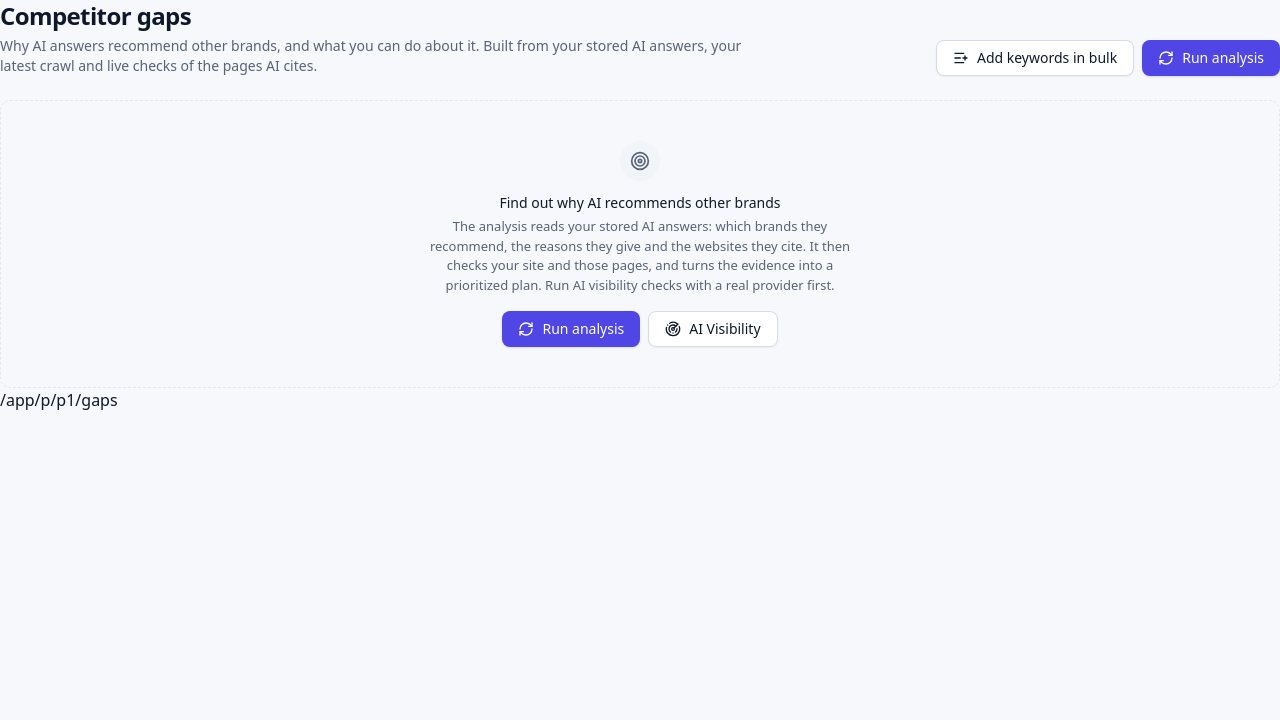
BulkPromptsDialog › generates keyword ideas with AI and fills keywords and questions
Step 1. Click the button "Add keywords in bulk" → (1035, 58), box [936, 40, 1134, 76]
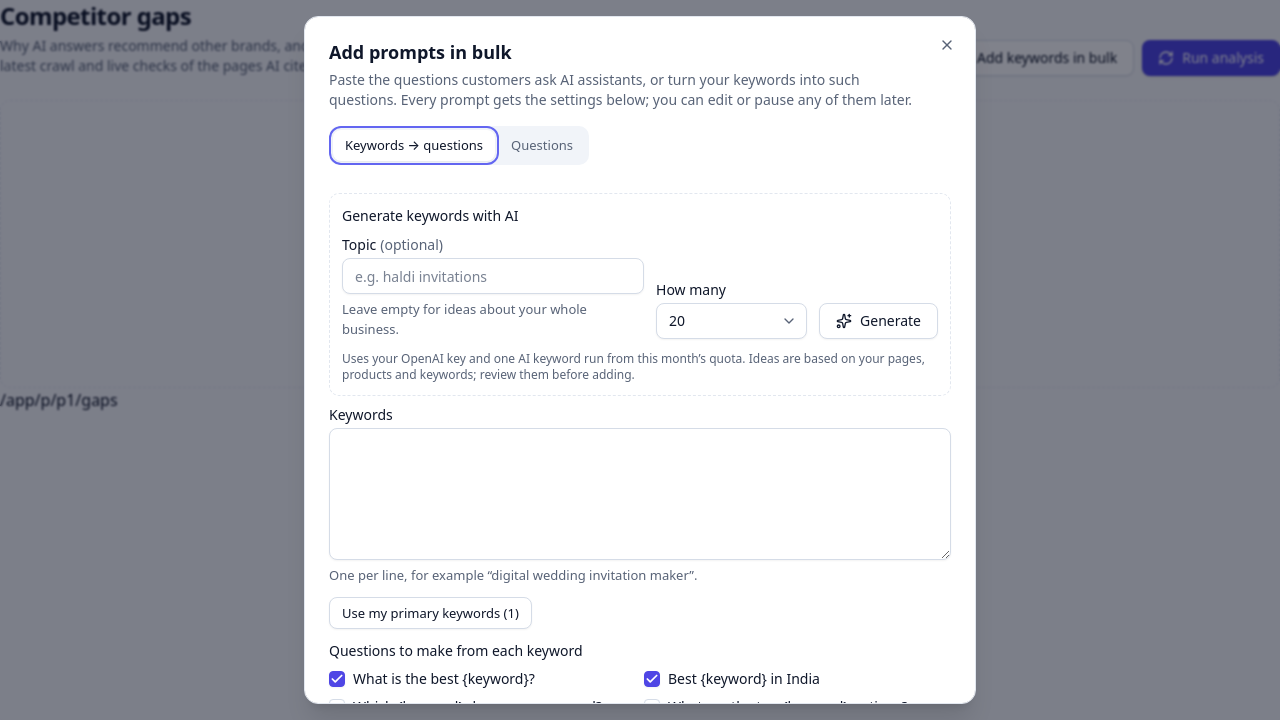
Step 2. Type "wedding" into the field with placeholder "e.g. haldi invitations" → (493, 276), box [342, 258, 644, 294]
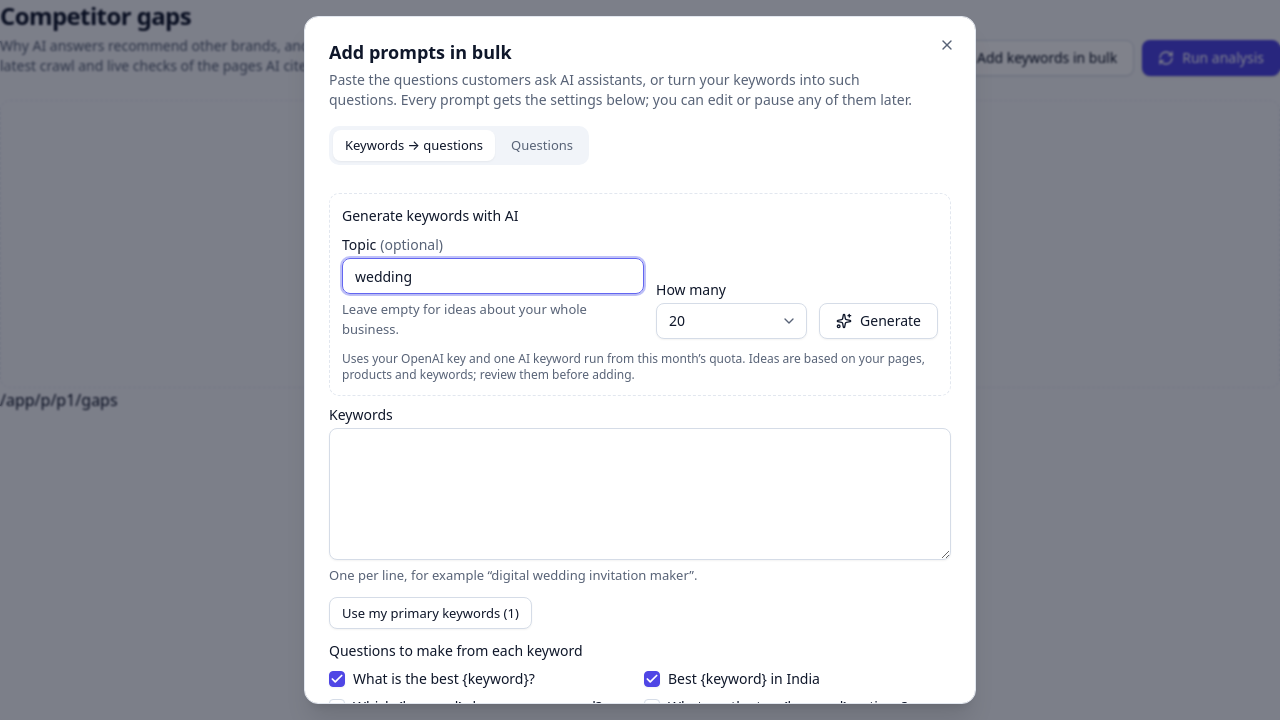
Step 3. Click the button "Generate" → (878, 321), box [819, 303, 938, 339]
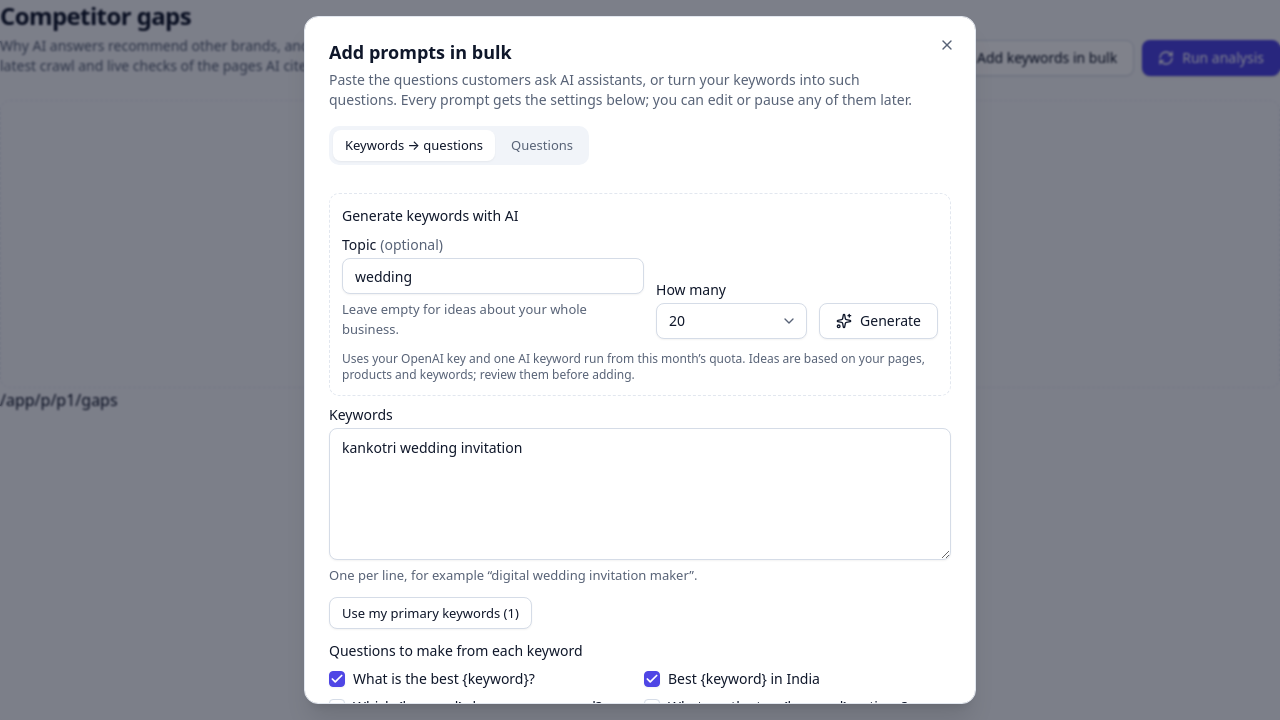
// The related questions the AI suggested are ready in the Questions tab.
Step 4. Click the tab "Questions" → (542, 145), box [499, 130, 585, 161]
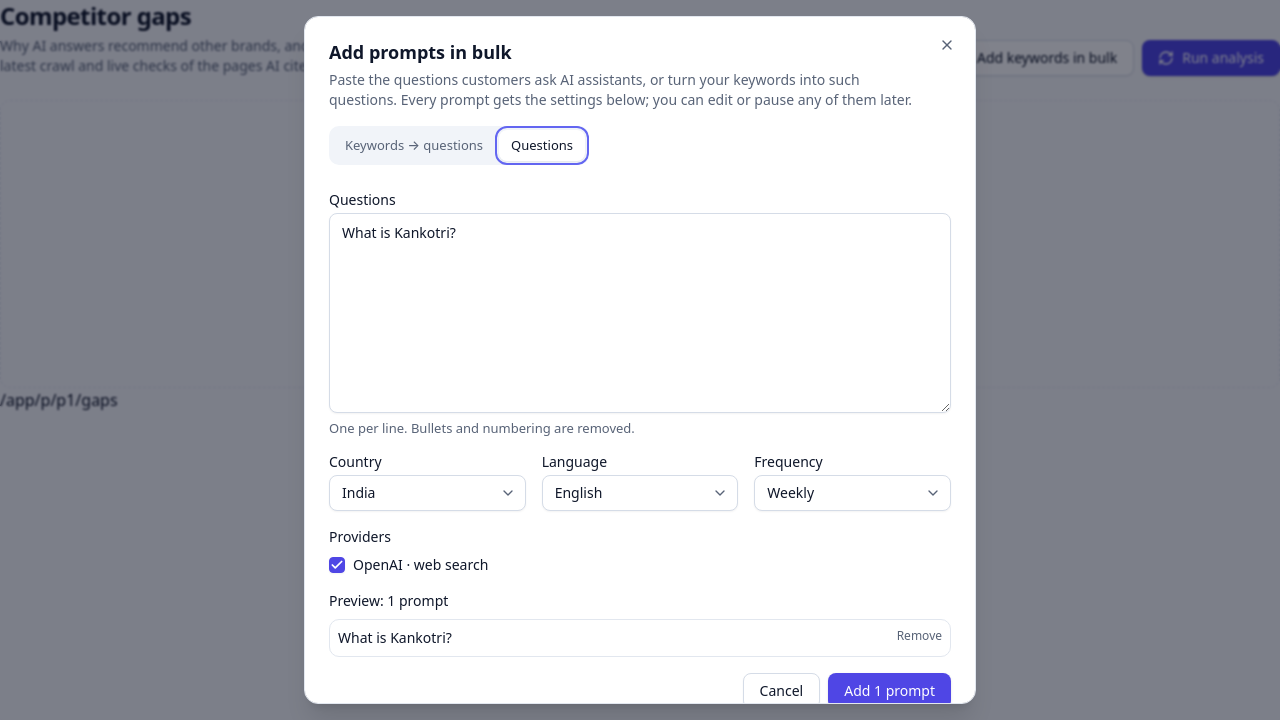
Result: the text box "What is Kankotri?" is shown at [329, 213, 951, 413]
